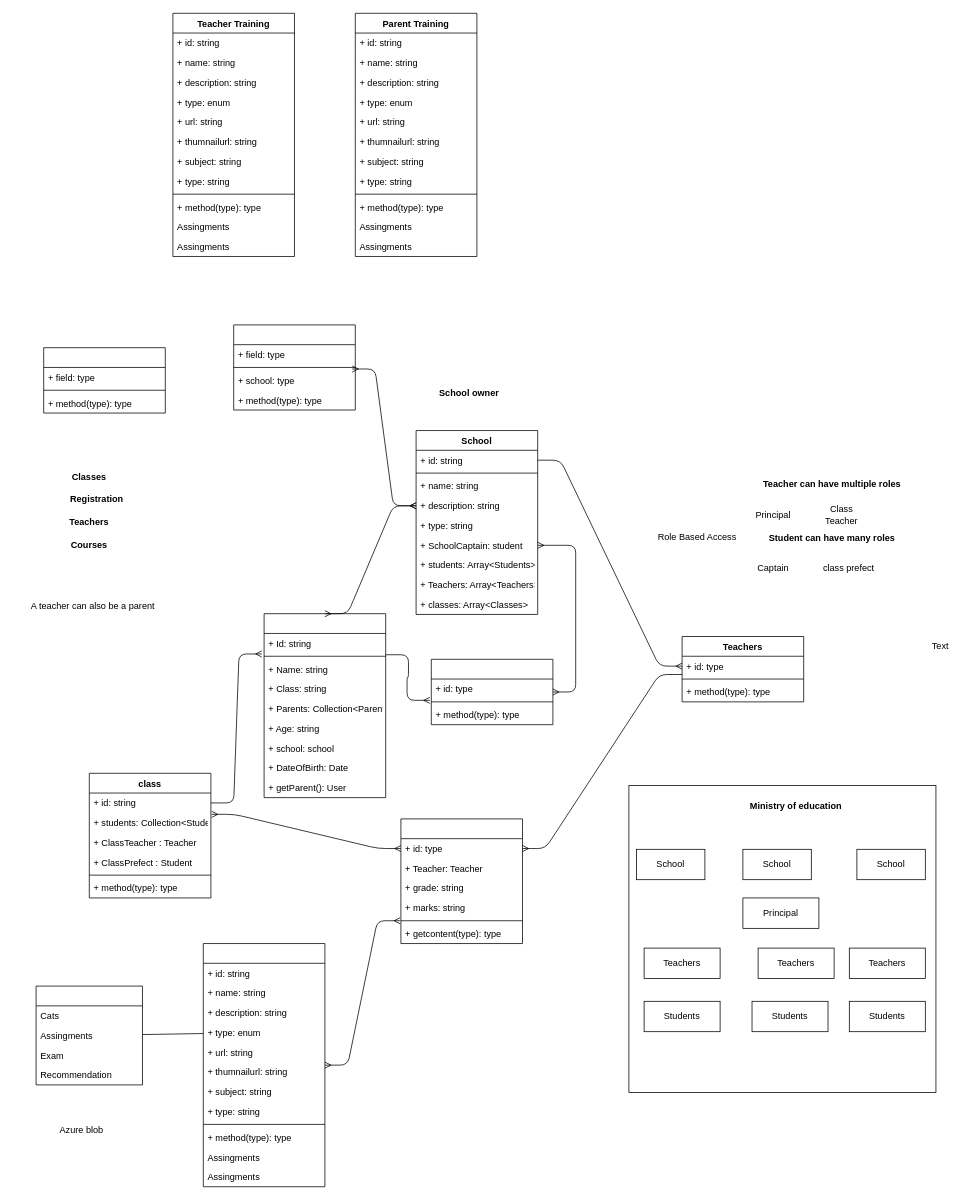
The diagram is 968 pixels wide and 1202 high, and some of its shapes have lost their labels. The box of each missing label's shape, as (x1, y1, x2, y2) in pixels:
Admin: (233, 324, 355, 410)
AspnetIdentity: (43, 347, 165, 413)
contents: (203, 943, 325, 1187)
Parent: (431, 659, 553, 725)
Student: (263, 613, 386, 798)
subjects: (400, 818, 522, 944)
type enum: (35, 985, 142, 1085)
